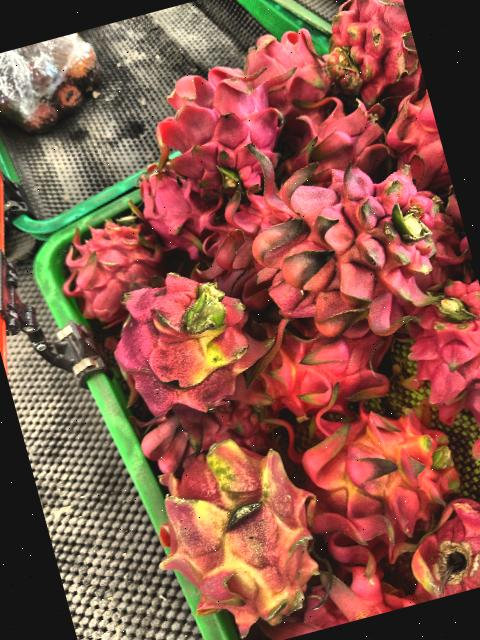buah-naga-belum-matang: (138, 428, 340, 640), (274, 369, 472, 562), (100, 252, 280, 429)
buah-naga-matang: (203, 103, 468, 349), (125, 38, 303, 208), (242, 299, 410, 436), (394, 269, 480, 481), (40, 203, 163, 316), (280, 79, 390, 197), (237, 7, 343, 126), (315, 0, 427, 112), (385, 476, 480, 605), (119, 143, 218, 264), (366, 74, 450, 194)
